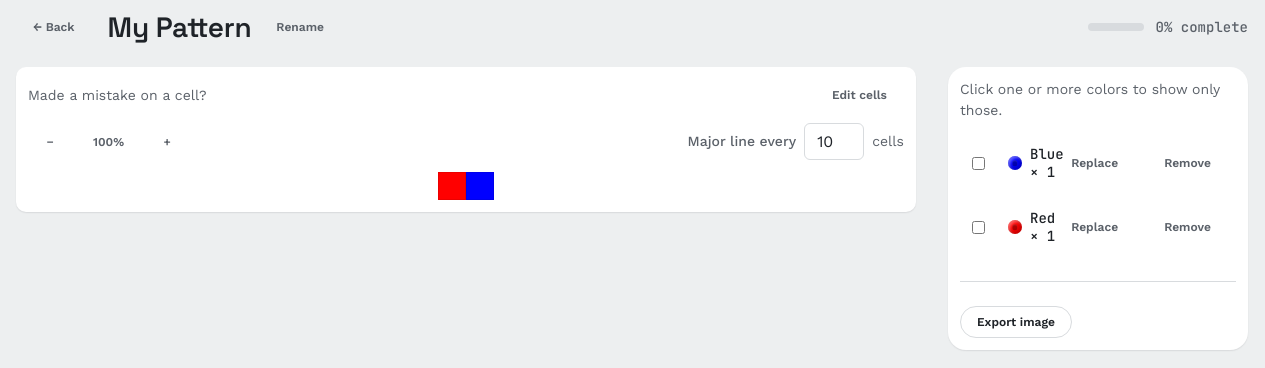
Test: WorkingView › marks a color complete via its checkbox and updates completion percent
The image size is (1265, 368).
Click the checkbox named "mark red complete" at [978, 227], box x1=972 y1=221 x2=985 y2=234
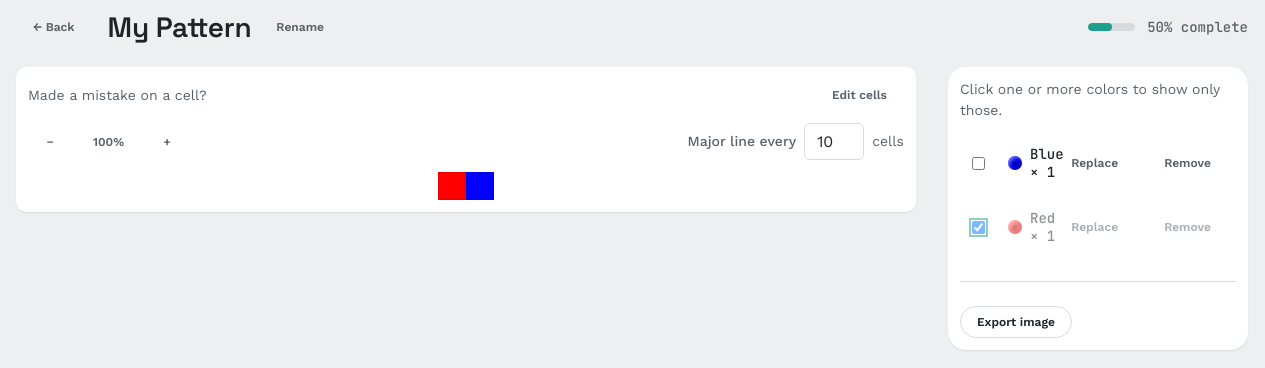
Now the text "50% complete" is shown, box x1=1147 y1=17 x2=1248 y2=38
